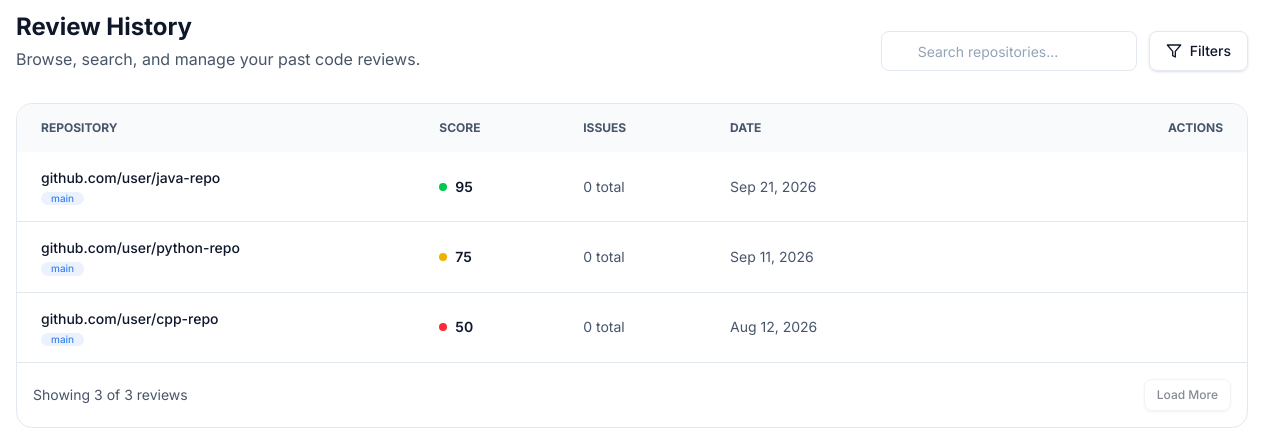
HistoryPage Filters › Empty search/filter results display the existing empty state
Check: the link "github.com/user/java-repo" is shown, box [41, 169, 220, 186]
Type "NON_EXISTENT_REPO_1234" into the field with placeholder "Search repositories...". click: (1009, 51)
box: [881, 31, 1137, 71]
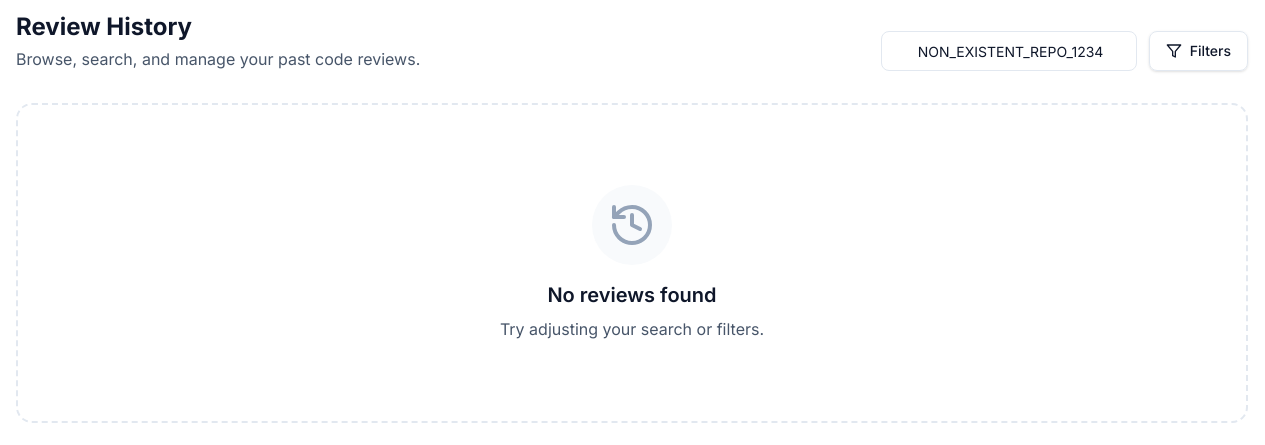
Check: the heading "No reviews found" is shown, box [547, 281, 716, 309]
Check: the text "Try adjusting your search or filters." is shown, box [500, 317, 764, 341]
